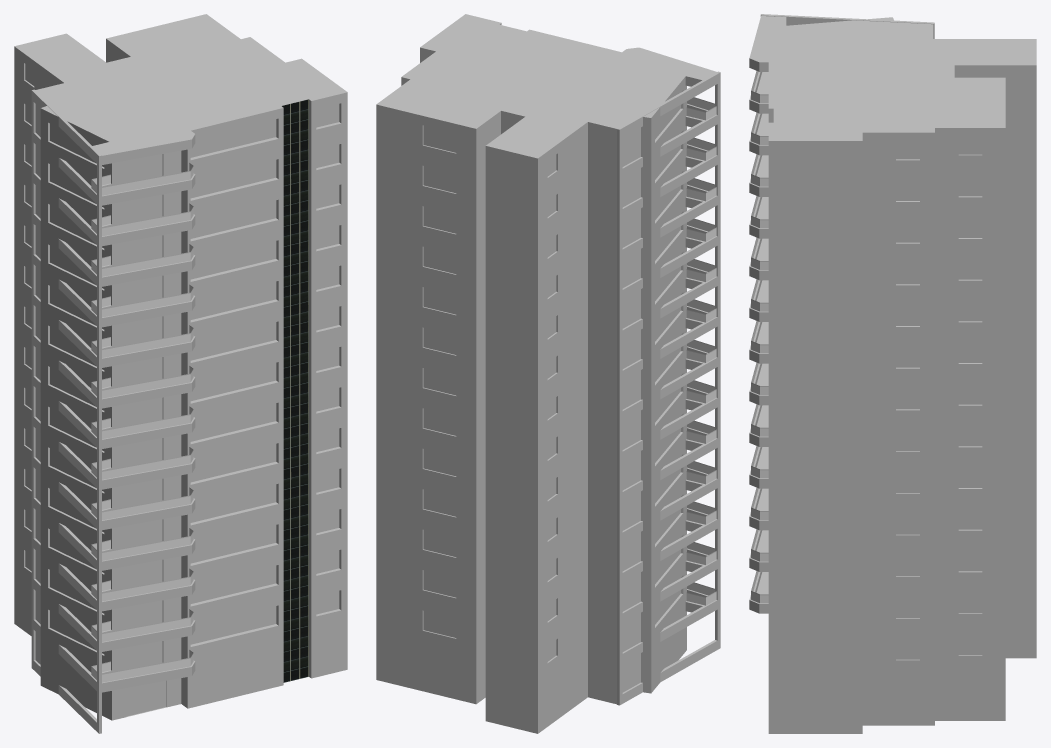
3 renders of one model, left to right at view 1: azimuth 30°, elevation 25°; view 2: azimuth 150°, elevation 25°; view 3: azimuth 270°, elevation 25°, orthographic. The views are drawn at different scales.
Visible parts, largest first — view 1: BR-009; view 2: BR-009; view 3: BR-009.
Part boxes in pixels (bbox=[...]): BR-009: bbox=[14, 14, 347, 733]; BR-009: bbox=[376, 14, 720, 733]; BR-009: bbox=[749, 14, 1036, 733].
Size of what is drawn, in the model's own units: 19.2 by 42 by 18.42.
